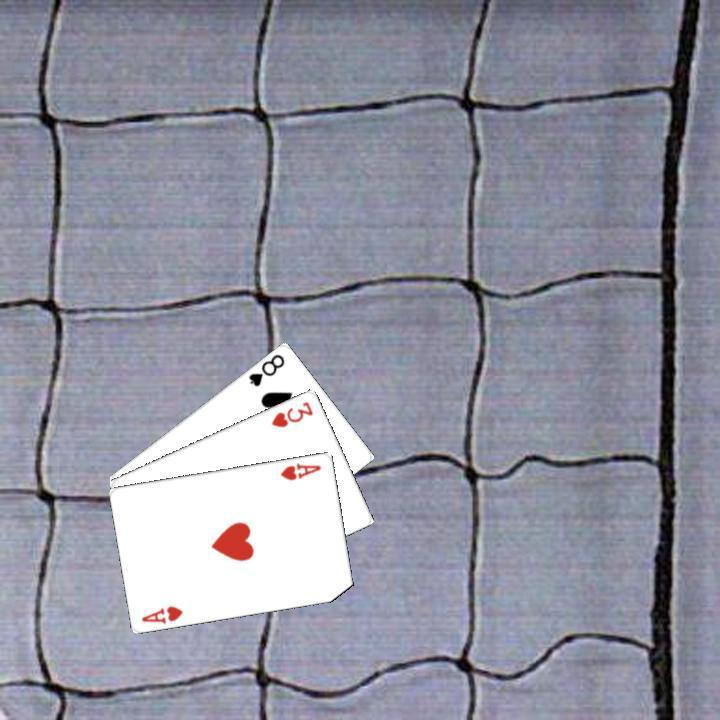3: (267, 397, 315, 429)
8: (244, 349, 287, 388)
A: (137, 601, 185, 625), (276, 458, 323, 482)
